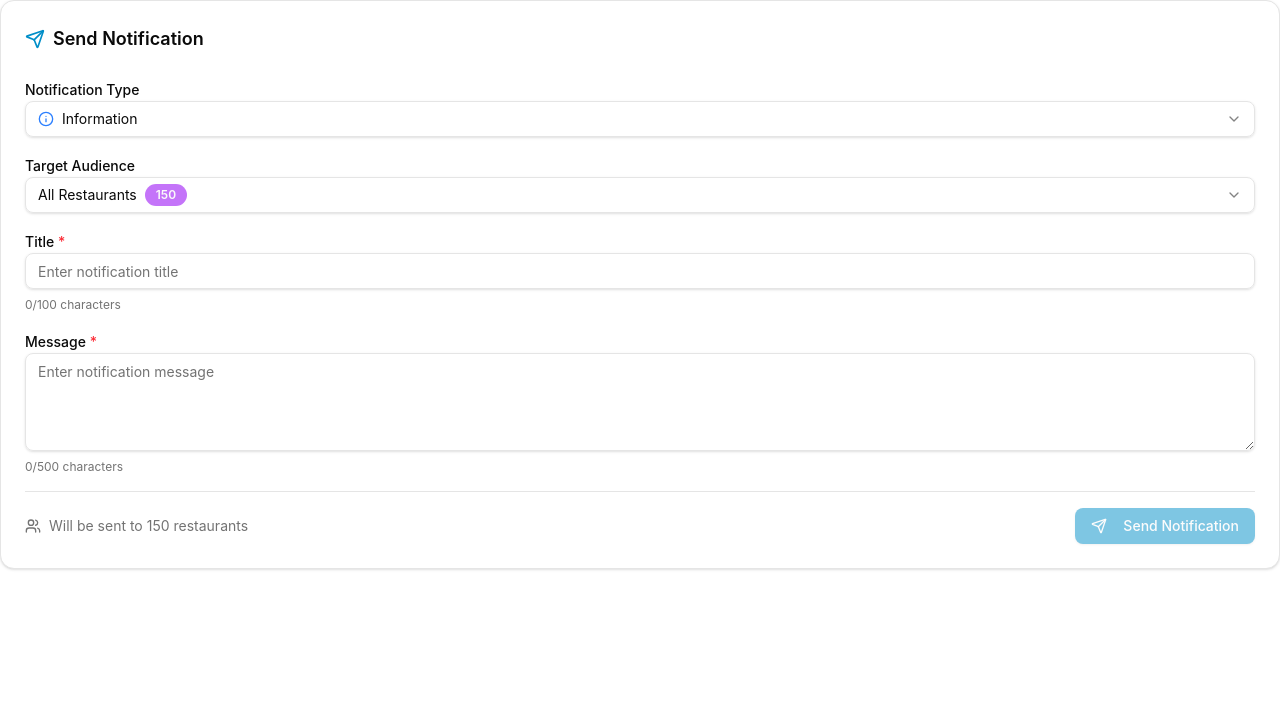
Test: NotificationSender › displays character count for title and message
Expected: the text "0/100 characters" is shown, [25,297,121,312]
Expected: the text "0/500 characters" is shown, [25,459,123,474]
Type "Test" into the field labelled "Title *" at (640, 271), box [25,253,1255,289]
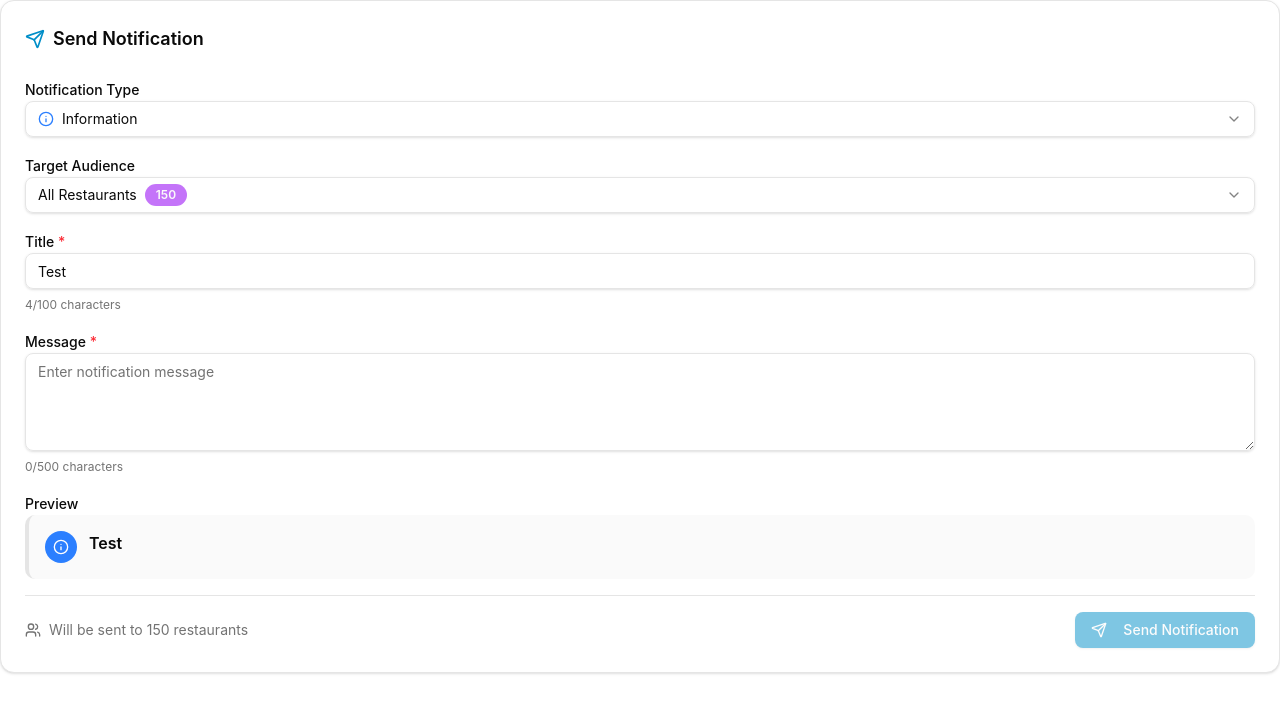
Now the text "4/100 characters" is shown, box [25,297,121,312]
Type "Test message" into the text box labelled "Message *" at (640, 402), box [25,353,1255,451]
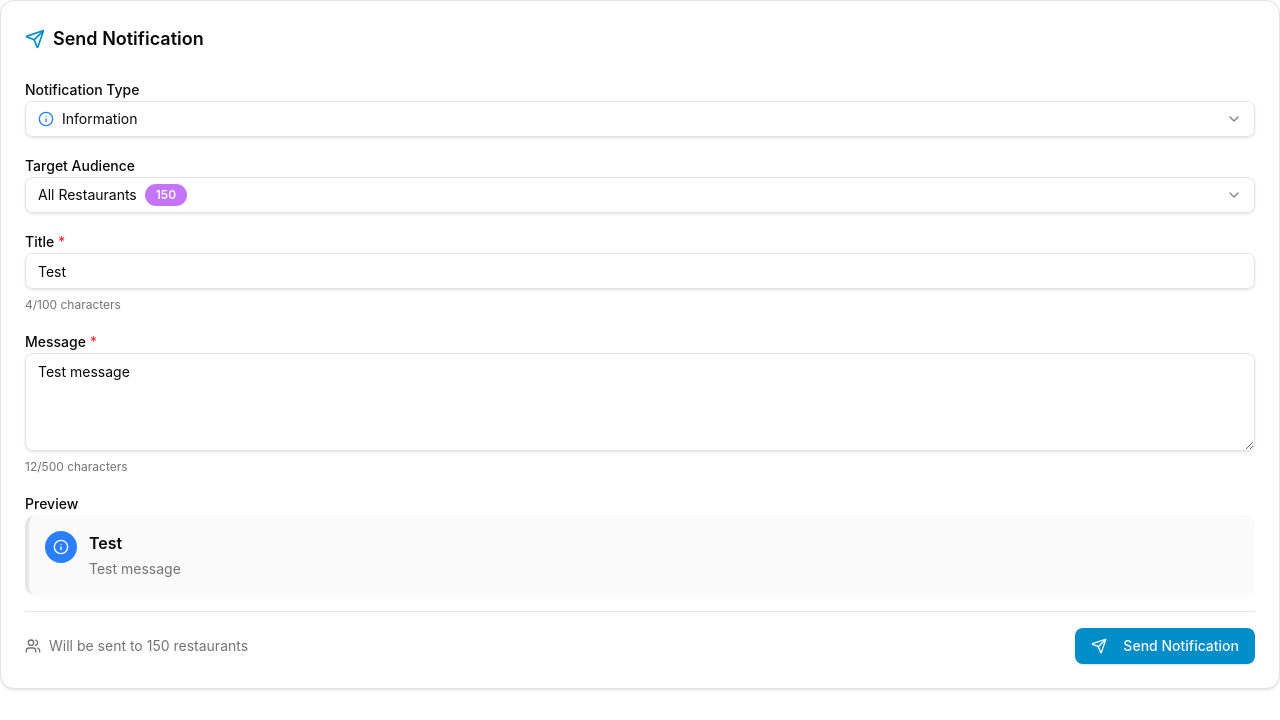
Now the text "12/500 characters" is shown, box [25,459,128,474]
